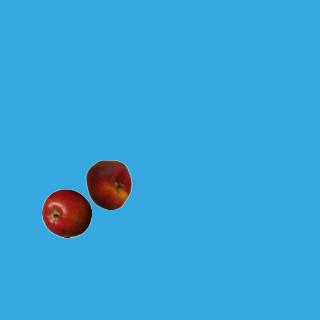Apple Braeburn: (41, 188, 91, 238)
Nectarine Flat: (83, 159, 133, 209)
